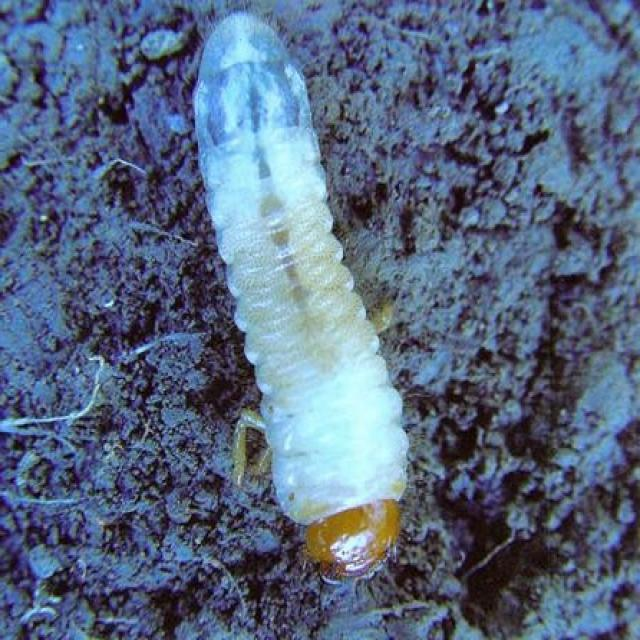grub: (189, 17, 416, 577)
